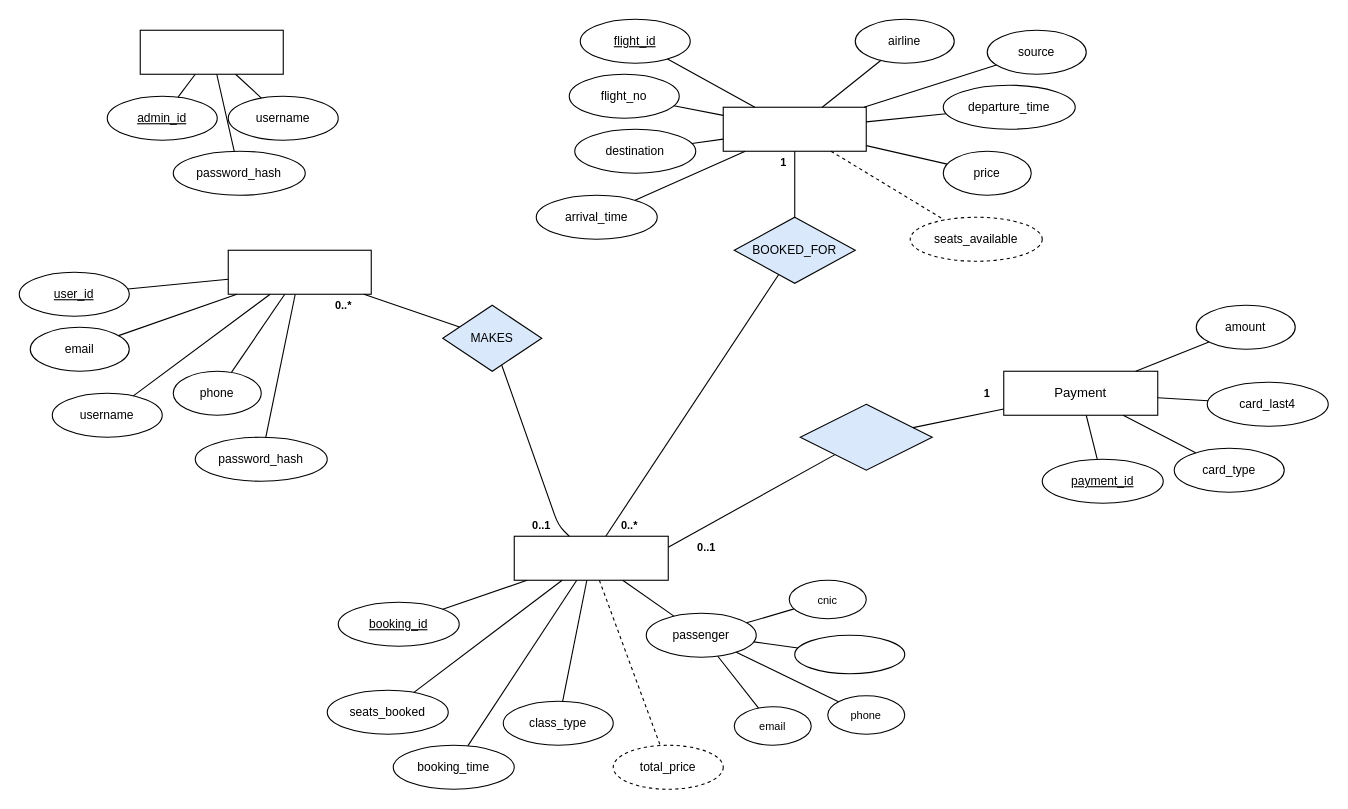
Some shapes in this 1348 by 809 pixel diagram are drawn without their labels. The shapes that lost their labels are listed below. From the top down, each one's box as (x1, y1, x2, y2) in pixels, then its label:
(139, 29, 283, 74): AdminUser
(722, 106, 866, 151): Flight
(227, 249, 371, 294): User
(799, 403, 932, 470): PAYMENT_FOR
(513, 535, 668, 580): Booking
(794, 634, 905, 674): passenger_name
